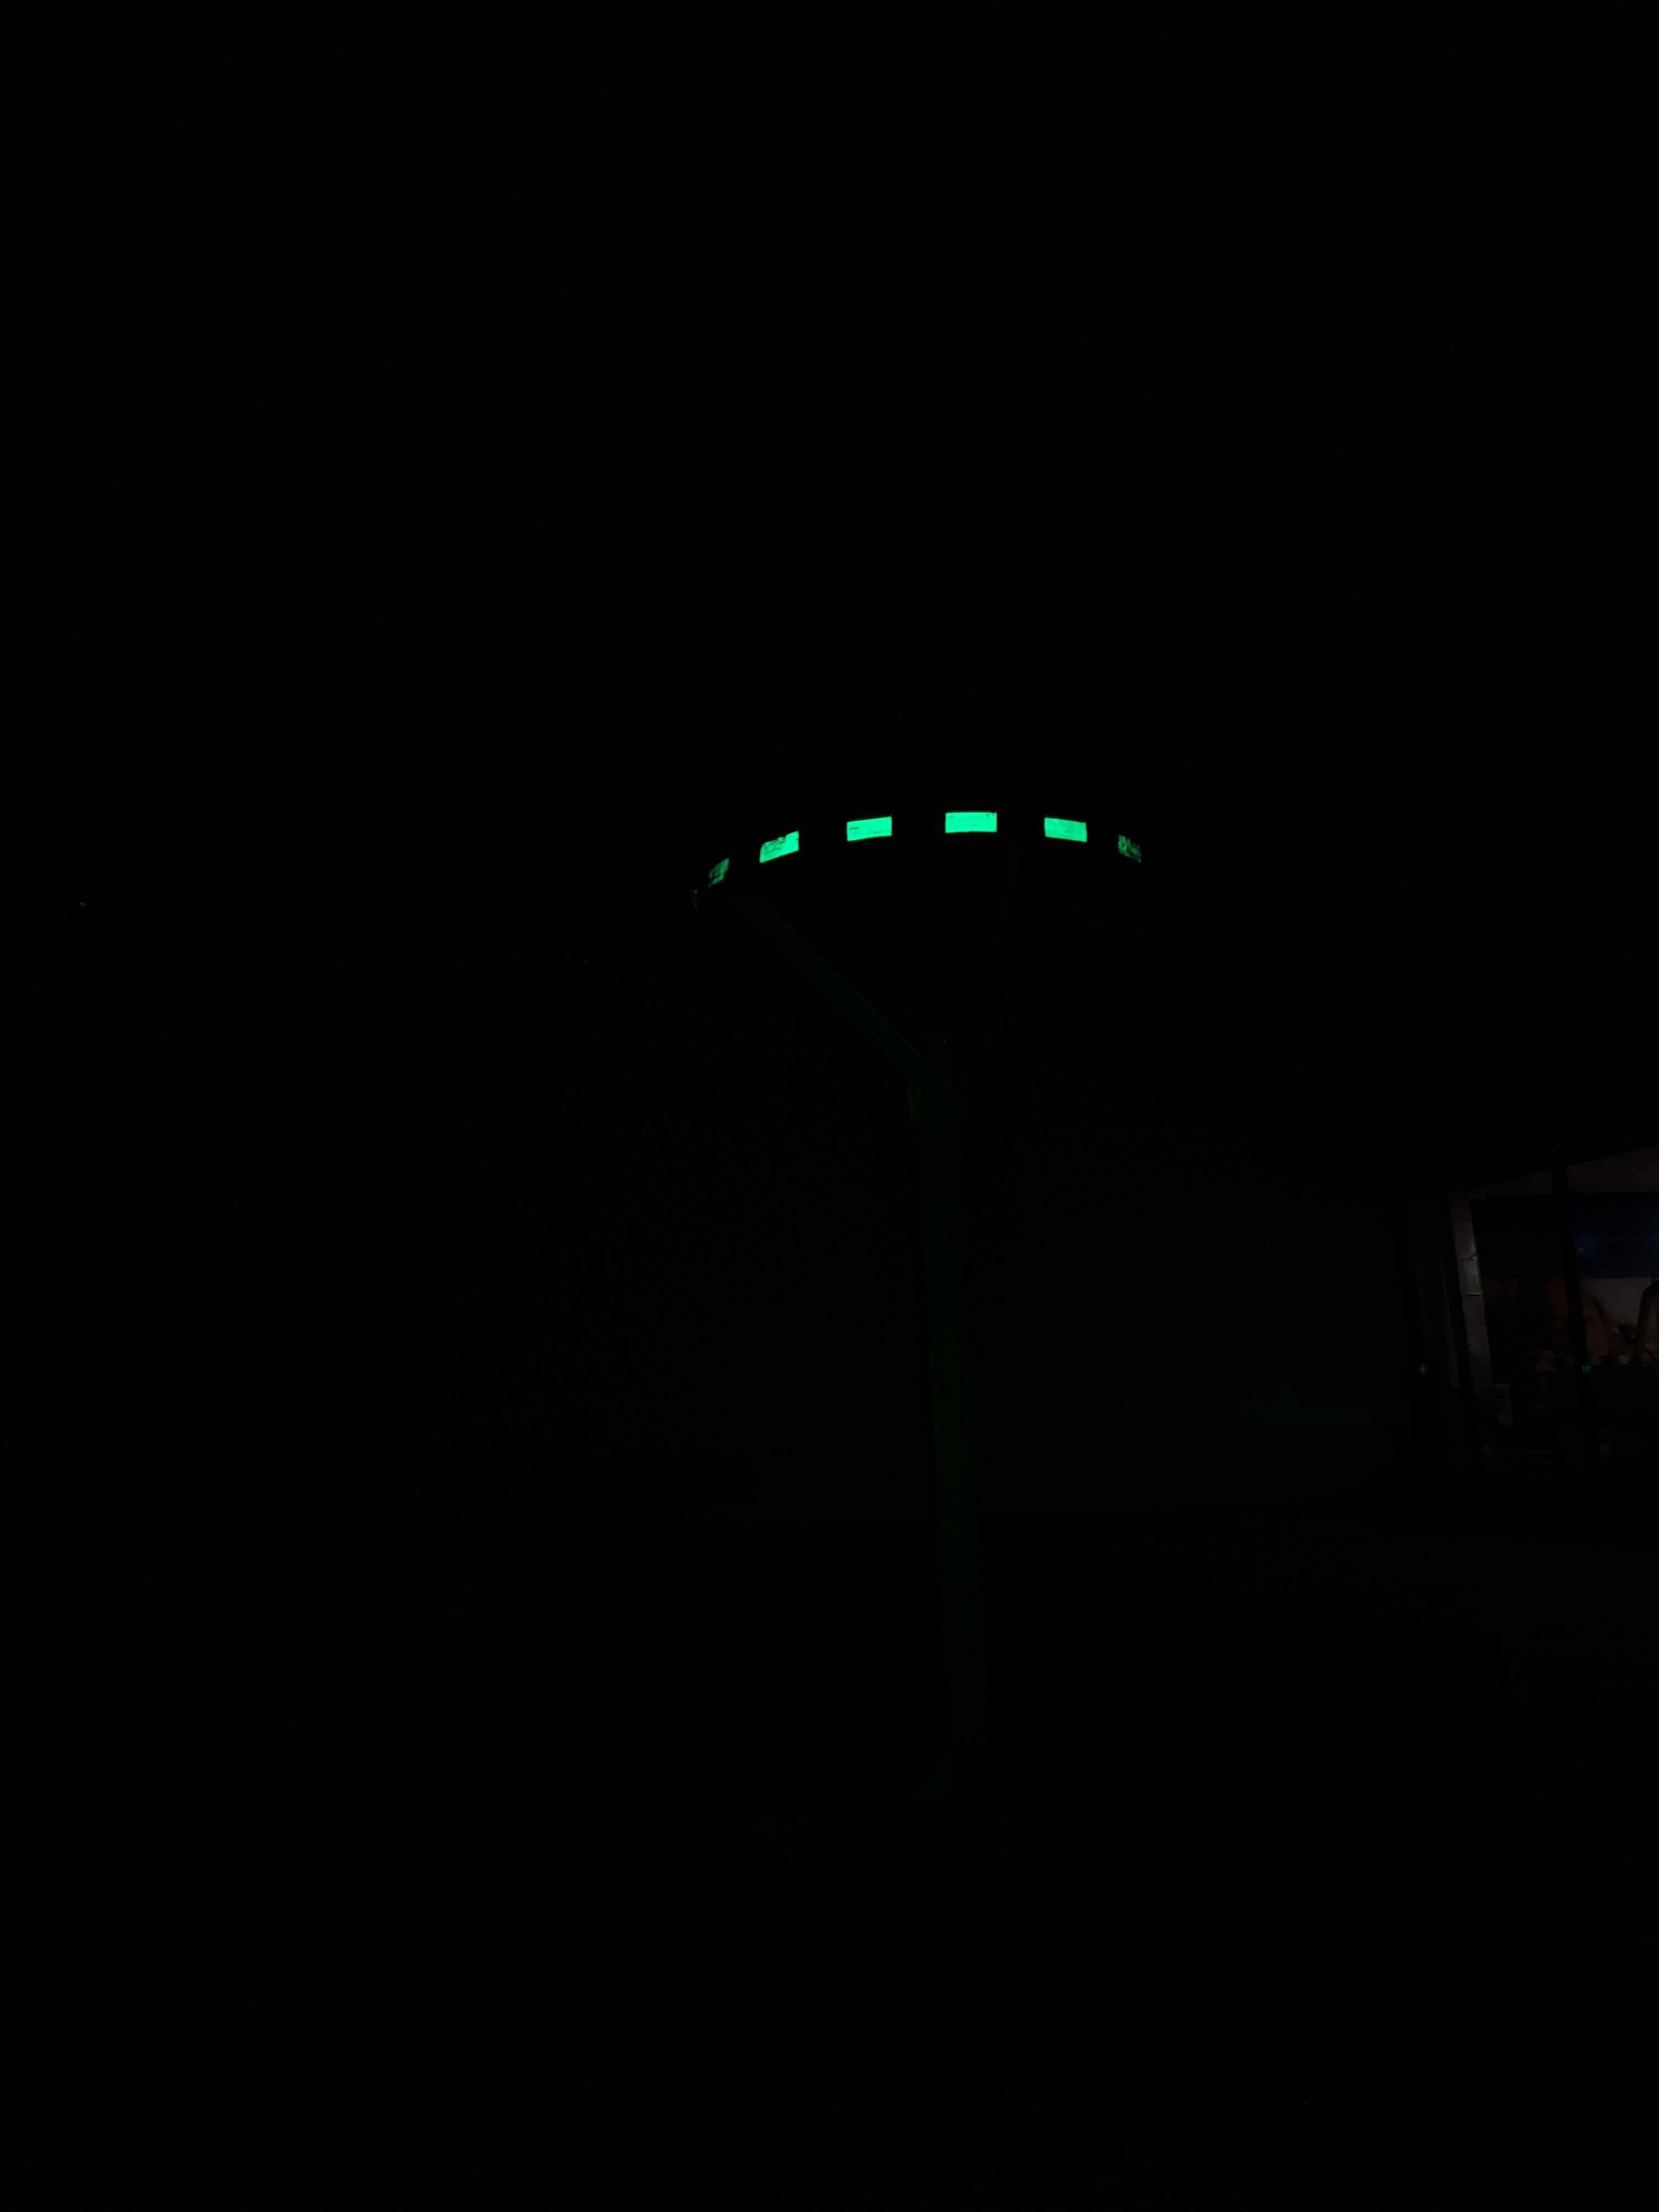hoop: (687, 777, 1175, 909)
